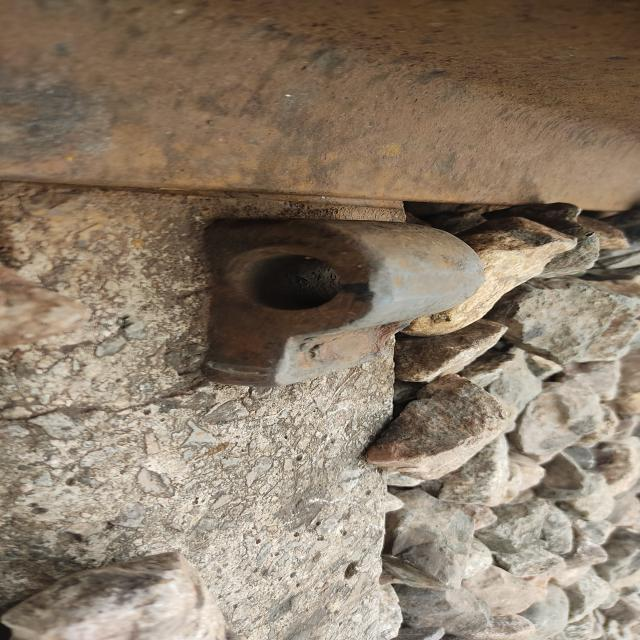track_bolt_missing: (210, 213, 495, 344)
